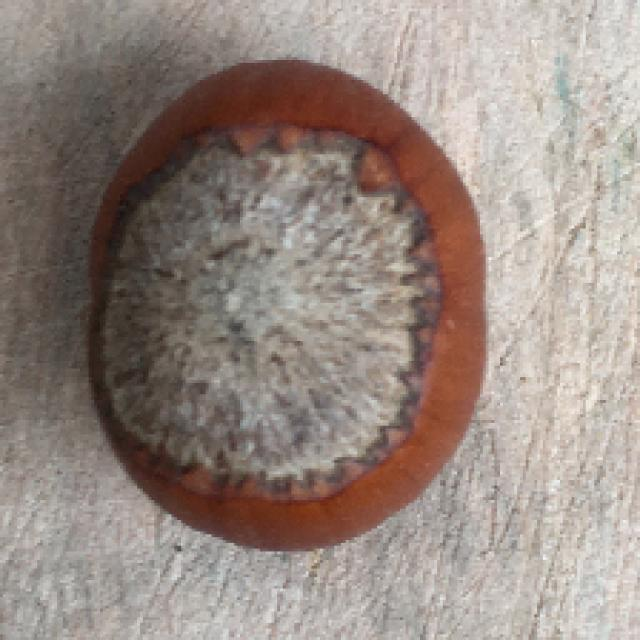qualityHazelnut: (79, 47, 498, 550)
